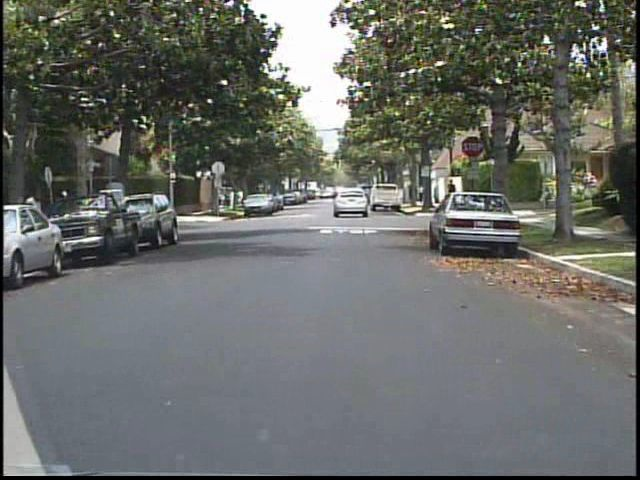person: (24, 184, 51, 263), (443, 176, 461, 213), (418, 183, 427, 205)
